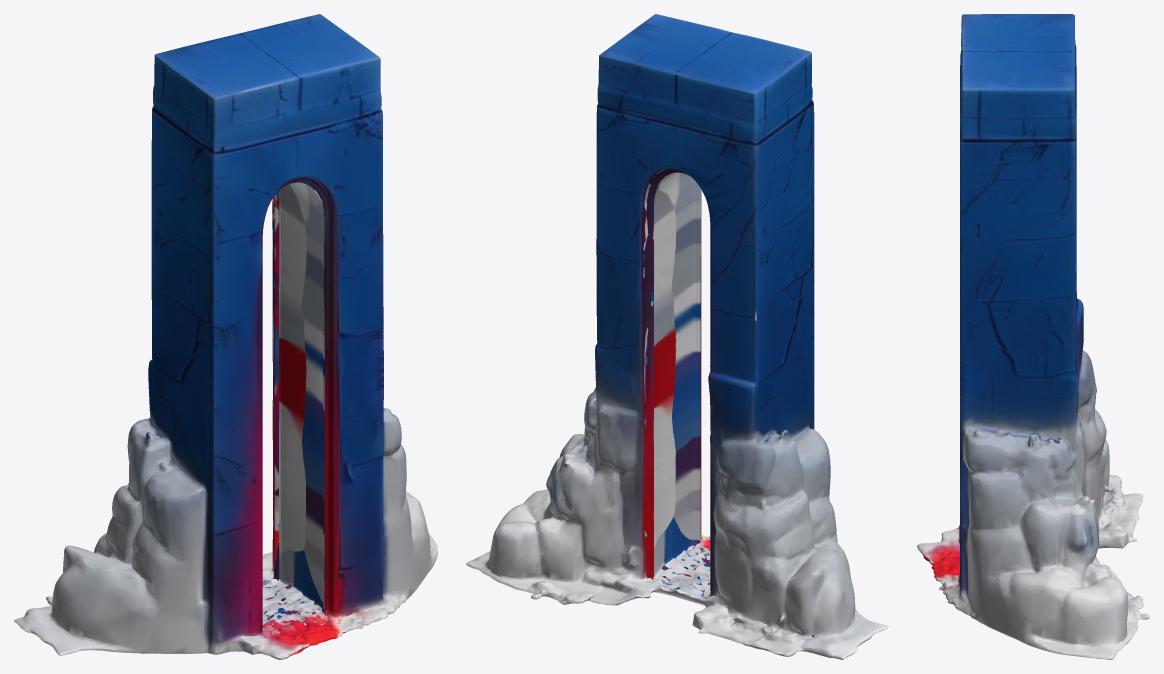
The model's file is weathered-monolith-pillar-generated-2026-04-18t22-01-36-007z-generated-2026-04-19T00-42-38-513Z.medium.glb.
3 views of the same model, side by side, from view 1: azimuth 30°, elevation 25°; view 2: azimuth 150°, elevation 25°; view 3: azimuth 270°, elevation 25° (orthographic). The views are drawn at different scales.
Visible parts, largest first — view 1: temp_mesh.ply; view 2: temp_mesh.ply; view 3: temp_mesh.ply.
Part boxes in pixels (<box>): temp_mesh.ply: <box>14,14,437,659</box>; temp_mesh.ply: <box>466,14,888,659</box>; temp_mesh.ply: <box>917,14,1149,659</box>.
Size of the model in its own units: 1.5 by 1.97 by 0.8027.
1 material, 1 textured.
